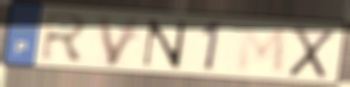1: (198, 20, 223, 73)
M: (234, 23, 289, 76)
N: (139, 17, 190, 70)
R: (38, 11, 91, 63)
V: (94, 13, 144, 69)
X: (285, 24, 338, 81)
